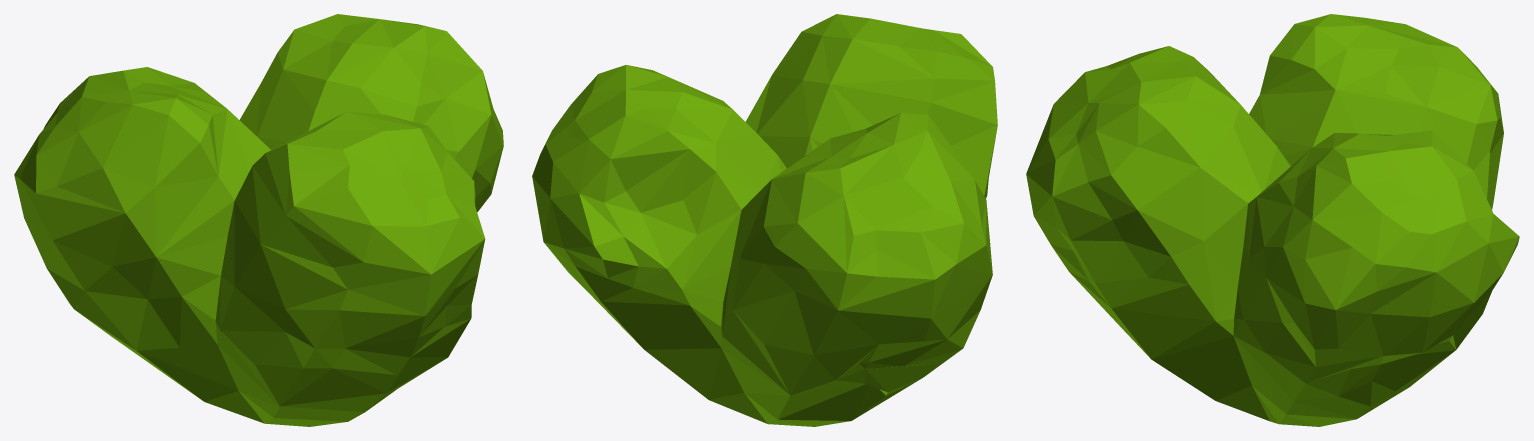
File: Bush_01.fbx
The picture shows the model from 3 angles, left to right: view 1: azimuth 30°, elevation 25°; view 2: azimuth 150°, elevation 25°; view 3: azimuth 270°, elevation 25°; orthographic projection.
Visible parts, largest first — view 1: Bush_01; view 2: Bush_01; view 3: Bush_01.
Boxes of the visible parts, bbox=[...] form: Bush_01: bbox=[14, 14, 503, 426]; Bush_01: bbox=[532, 14, 997, 426]; Bush_01: bbox=[1026, 14, 1519, 426].
Size of the model in its own units: 126 by 91.62 by 121.
